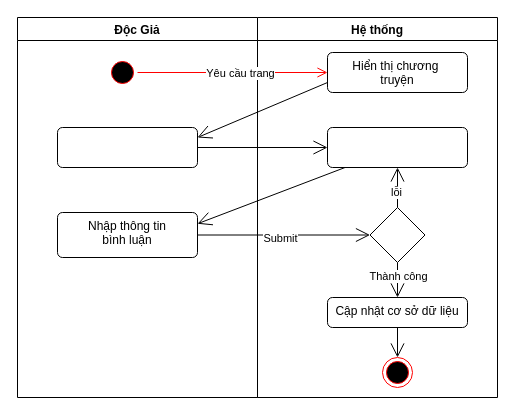
The diagram is 515 pixels wide and 415 high, and some of its shapes have lost their labels. Each missing label, with the box of its shape:
Chọn chức năng bình luận: (56, 126, 198, 168)
Hiển thị form theo yêu cầu: (326, 126, 468, 168)
kiểm tra: (369, 206, 425, 262)
